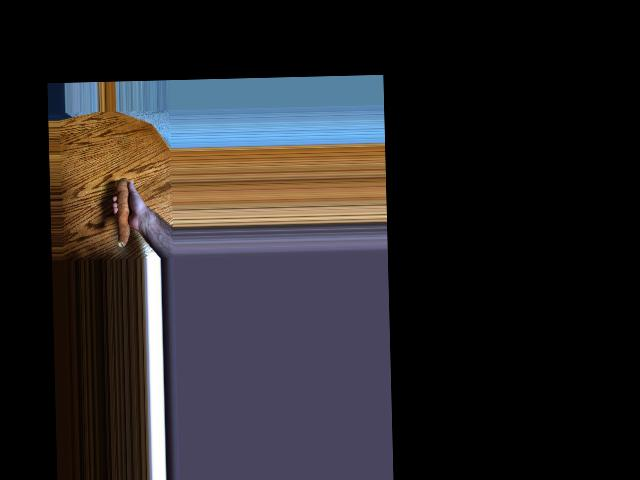sweet_potato: (115, 177, 138, 248)
